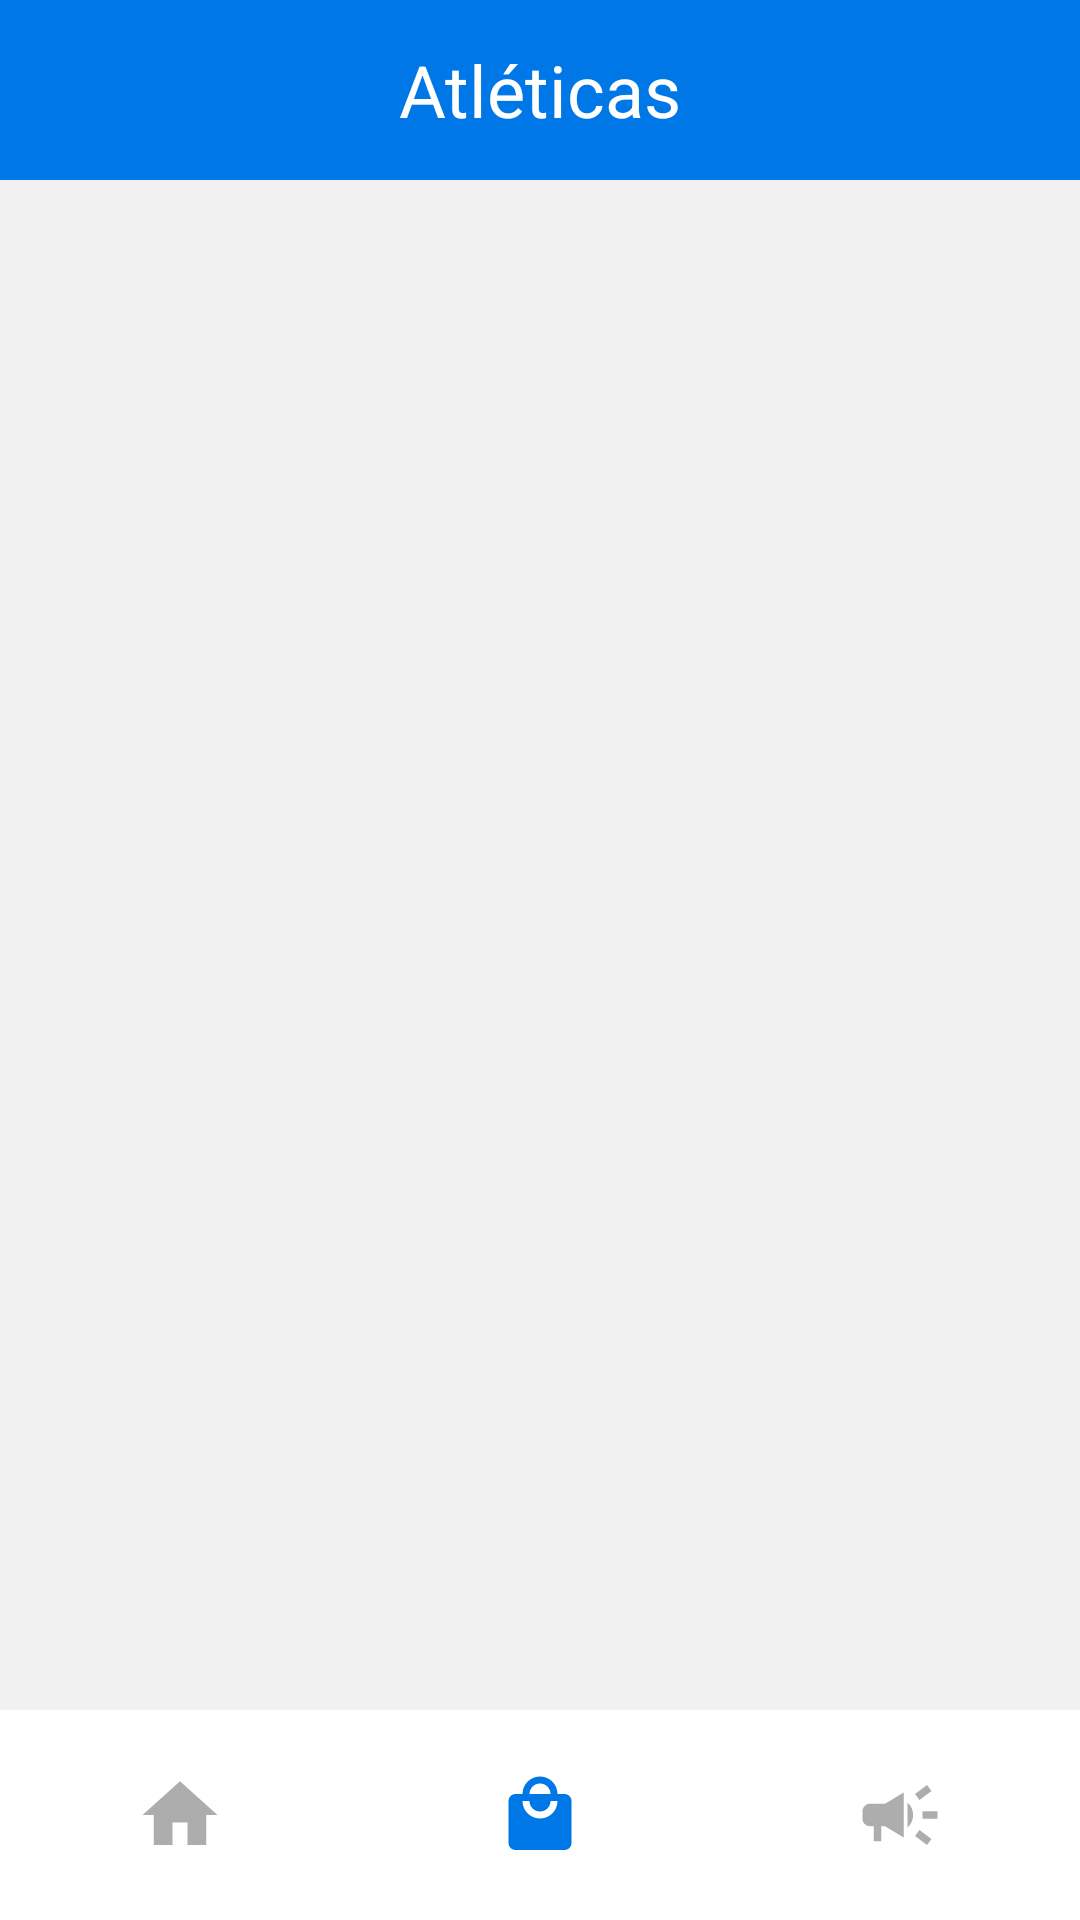

Named icons in this screenshot (1080*1920) and their bounding boxes, (left=x1, top=y1, right=x2, bottom=y2):
campaign: (left=862, top=1785, right=938, bottom=1845)
home: (left=143, top=1781, right=217, bottom=1845)
local mall: (left=508, top=1776, right=572, bottom=1850)
